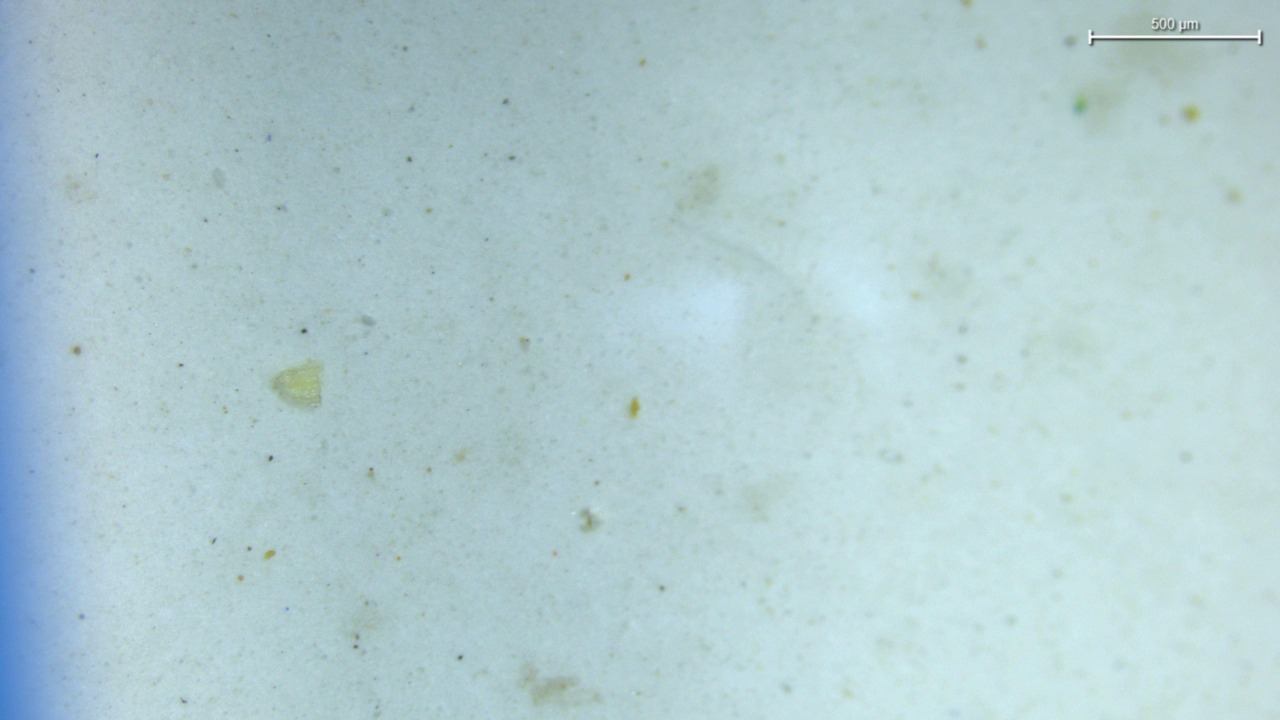microplastic_fragment: (272, 361, 322, 407)
